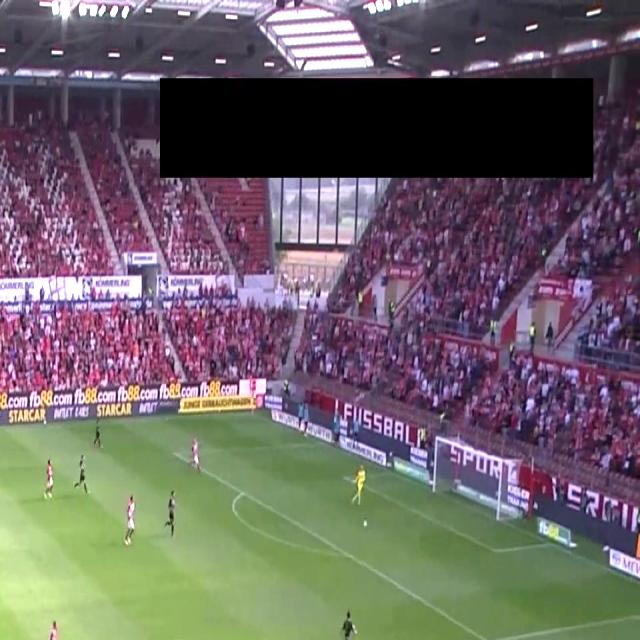goalkeeper: (344, 461, 371, 509)
soccer-player: (323, 602, 366, 640), (118, 492, 144, 550), (158, 486, 183, 544), (71, 449, 93, 498), (182, 434, 208, 475), (41, 455, 62, 505), (33, 616, 71, 640)
